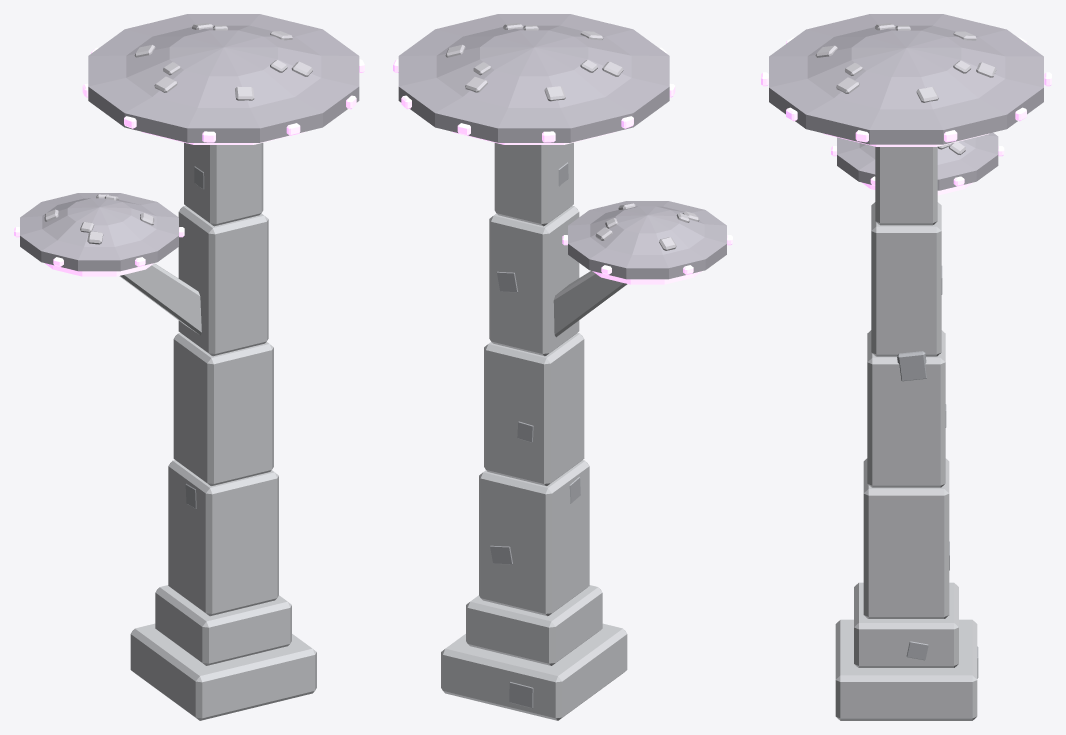
File: NarmekMoonTree.fbx
3 views of the same model, side by side, from view 1: azimuth 30°, elevation 25°; view 2: azimuth 150°, elevation 25°; view 3: azimuth 270°, elevation 25° (orthographic).
Parts seen in each view (by area): view 1: NarmekMoonTree.Trunk, NarmekMoonTree.Saucers, NarmekMoonTree.SaucerStuds, NarmekMoonTree.Glow; view 2: NarmekMoonTree.Trunk, NarmekMoonTree.Saucers, NarmekMoonTree.SaucerStuds, NarmekMoonTree.Craters, NarmekMoonTree.Glow; view 3: NarmekMoonTree.Trunk, NarmekMoonTree.Saucers, NarmekMoonTree.SaucerStuds, NarmekMoonTree.Glow, NarmekMoonTree.Craters.
Part boxes in pixels (x1,y1,x2,y2): NarmekMoonTree.Trunk: (119, 142, 316, 720); NarmekMoonTree.Saucers: (20, 14, 359, 271); NarmekMoonTree.SaucerStuds: (44, 23, 312, 244); NarmekMoonTree.Glow: (14, 21, 364, 276); NarmekMoonTree.Trunk: (441, 142, 627, 720); NarmekMoonTree.Saucers: (398, 14, 726, 279); NarmekMoonTree.SaucerStuds: (445, 23, 699, 250); NarmekMoonTree.Craters: (490, 162, 580, 708); NarmekMoonTree.Glow: (393, 21, 732, 284); NarmekMoonTree.Trunk: (835, 147, 977, 720); NarmekMoonTree.Saucers: (769, 14, 1043, 190); NarmekMoonTree.SaucerStuds: (815, 23, 996, 154); NarmekMoonTree.Glow: (761, 37, 1051, 195); NarmekMoonTree.Craters: (897, 266, 978, 678).
Size of the model in its own units: 5.81 by 11.51 by 4.7.
